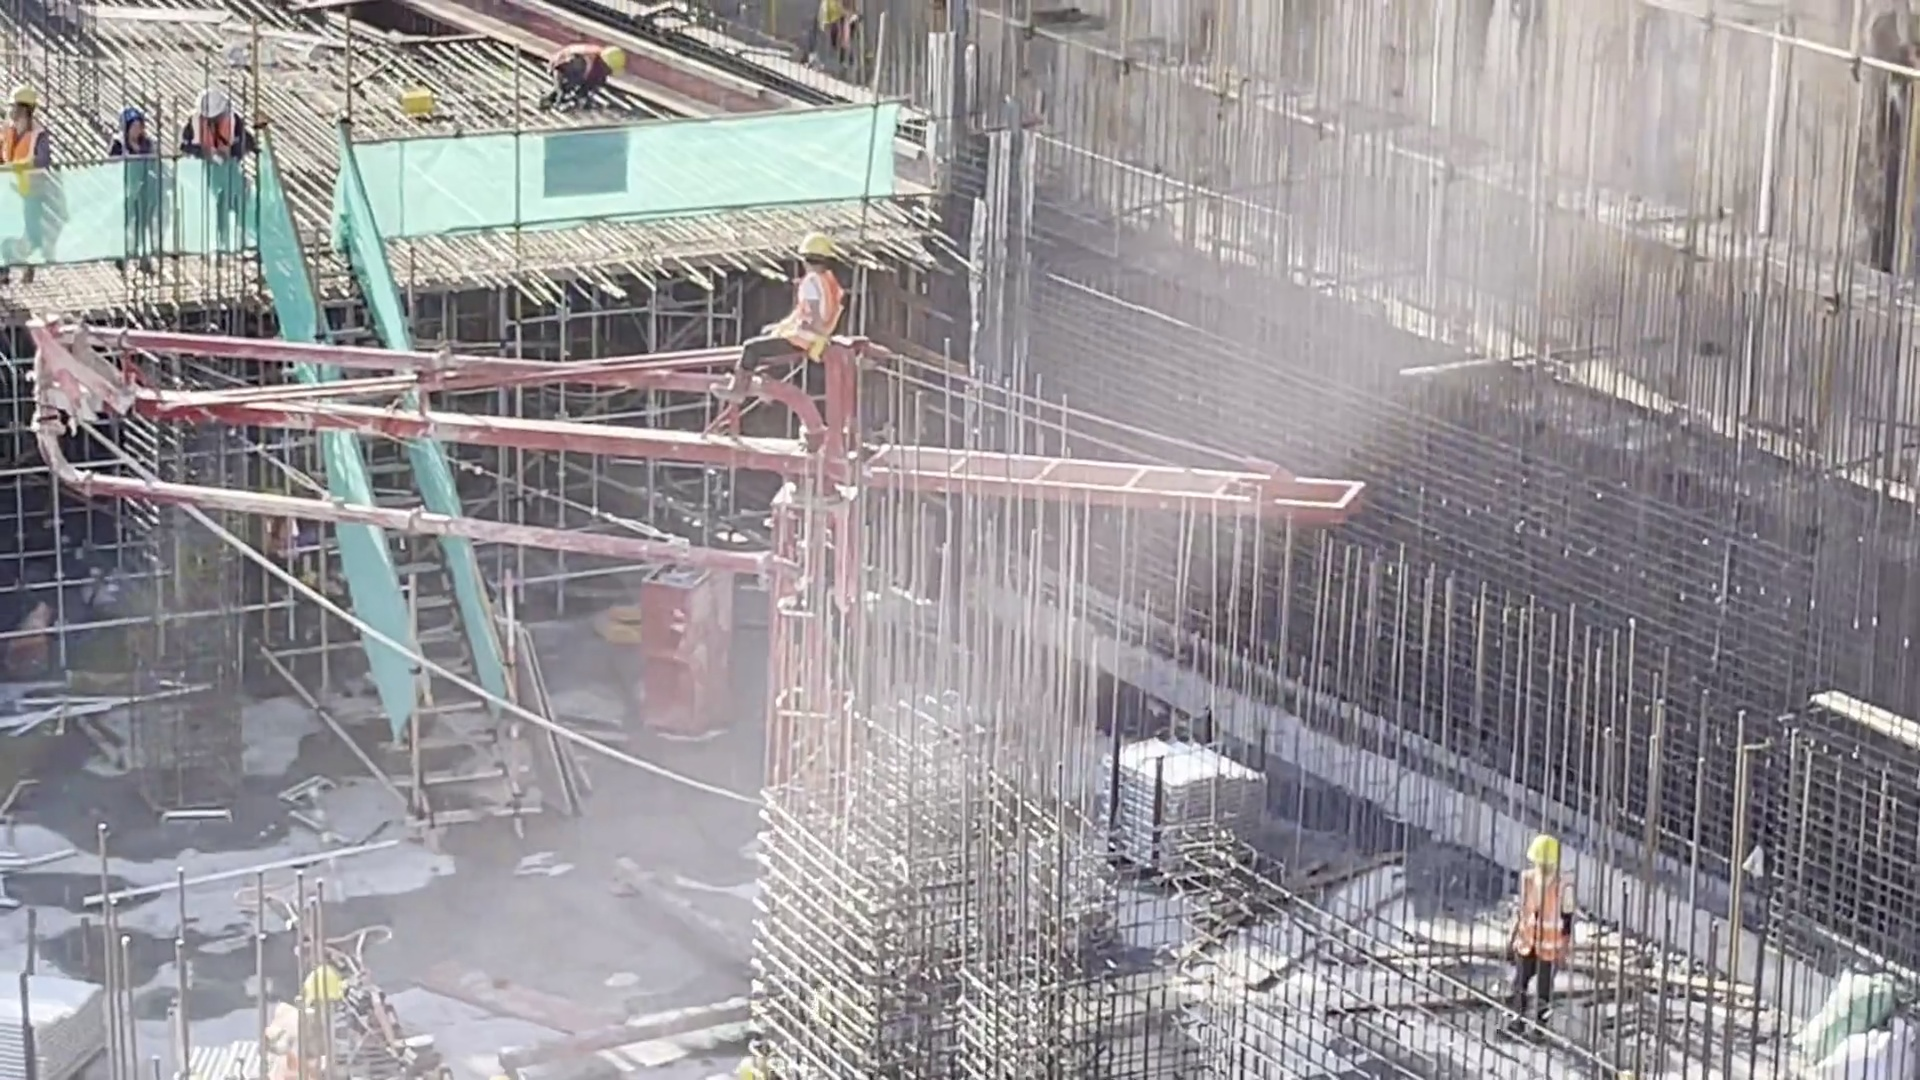helmet: (296, 968, 358, 1000), (792, 227, 844, 260), (1530, 820, 1564, 868), (1, 83, 48, 116), (199, 91, 232, 123), (597, 38, 632, 69), (112, 105, 147, 135)
person: (722, 222, 884, 416), (1497, 831, 1592, 1046), (185, 67, 263, 257), (103, 104, 186, 279), (537, 24, 634, 141), (17, 86, 62, 230)
scaffold: (1120, 723, 1263, 869), (1, 942, 105, 1079), (182, 1041, 283, 1080)
vest: (786, 269, 839, 350), (1519, 873, 1562, 963), (194, 117, 251, 170), (552, 41, 604, 96), (1, 121, 55, 172), (122, 135, 161, 172)
